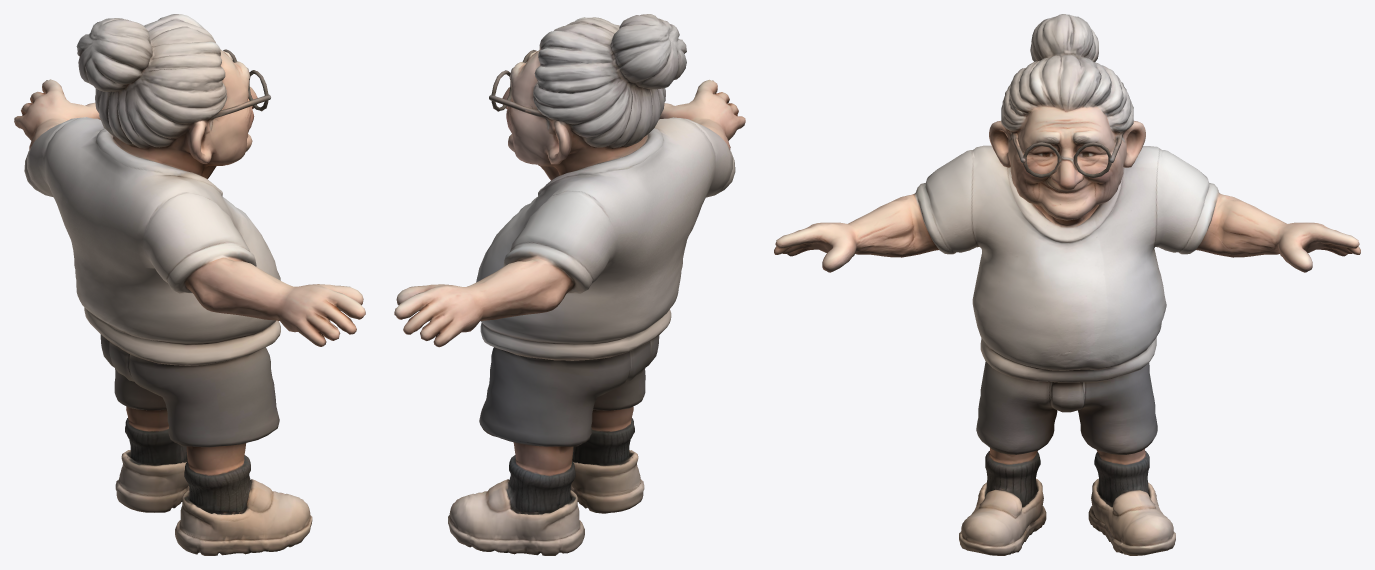
3 views of the same model, side by side, from view 1: azimuth 30°, elevation 25°; view 2: azimuth 150°, elevation 25°; view 3: azimuth 270°, elevation 25° (orthographic). The views are drawn at different scales.
Visible parts, largest first — view 1: tripo_node_fdefaca2; view 2: tripo_node_fdefaca2; view 3: tripo_node_fdefaca2.
Boxes of the visible parts, left/top/right/bottom form: tripo_node_fdefaca2: left=14, top=14, right=365, bottom=555; tripo_node_fdefaca2: left=394, top=14, right=745, bottom=555; tripo_node_fdefaca2: left=774, top=14, right=1360, bottom=555.
Size of the model in its own units: 34.44 by 89.82 by 100.
Materials: 1 (1 with a texture image).
